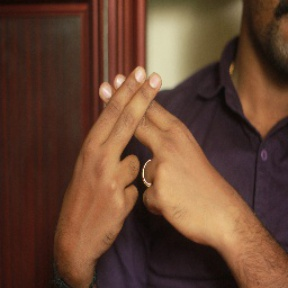F: (65, 56, 209, 177)
